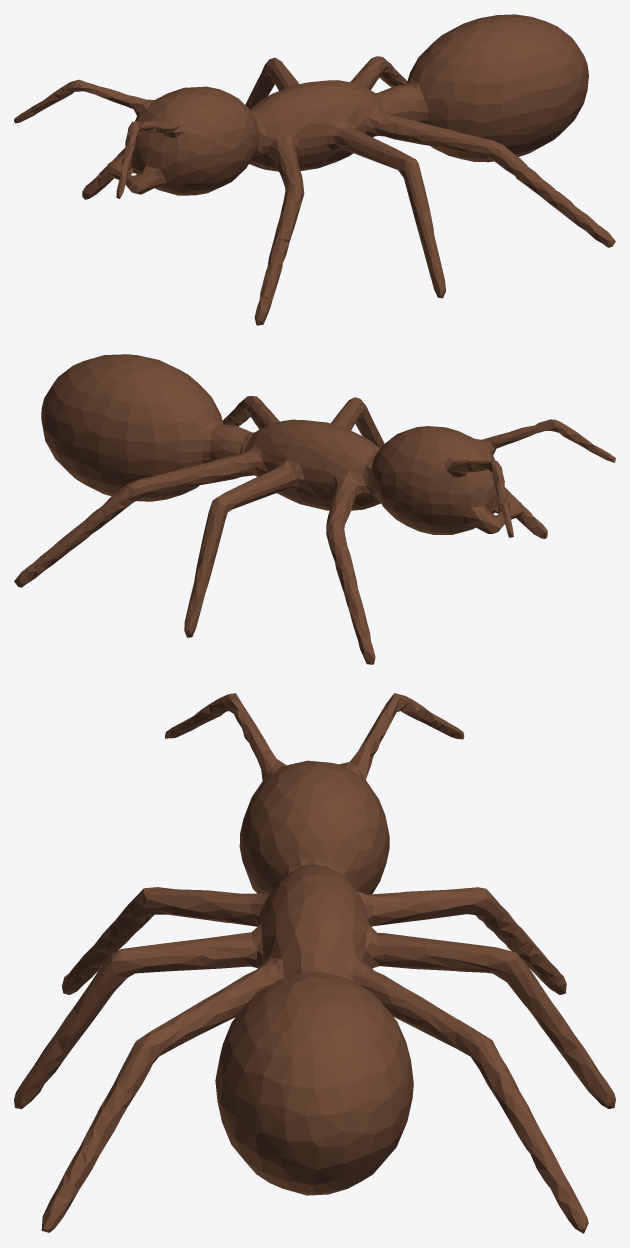
Rendered from NEW_RECOVERY_017_LOD0.glb.
3 views of the same model, one above another, from view 1: azimuth 30°, elevation 25°; view 2: azimuth 150°, elevation 25°; view 3: azimuth 270°, elevation 25° (orthographic). The views are drawn at different scales.
Visible parts, largest first — view 1: Ant_solid; view 2: Ant_solid; view 3: Ant_solid.
Boxes of the visible parts, box(x1,y1,x2,y2) form: Ant_solid: box(14, 14, 615, 325); Ant_solid: box(14, 354, 615, 664); Ant_solid: box(14, 693, 615, 1233).
Size of the model in its own units: 5.36 by 1.76 by 3.79.
